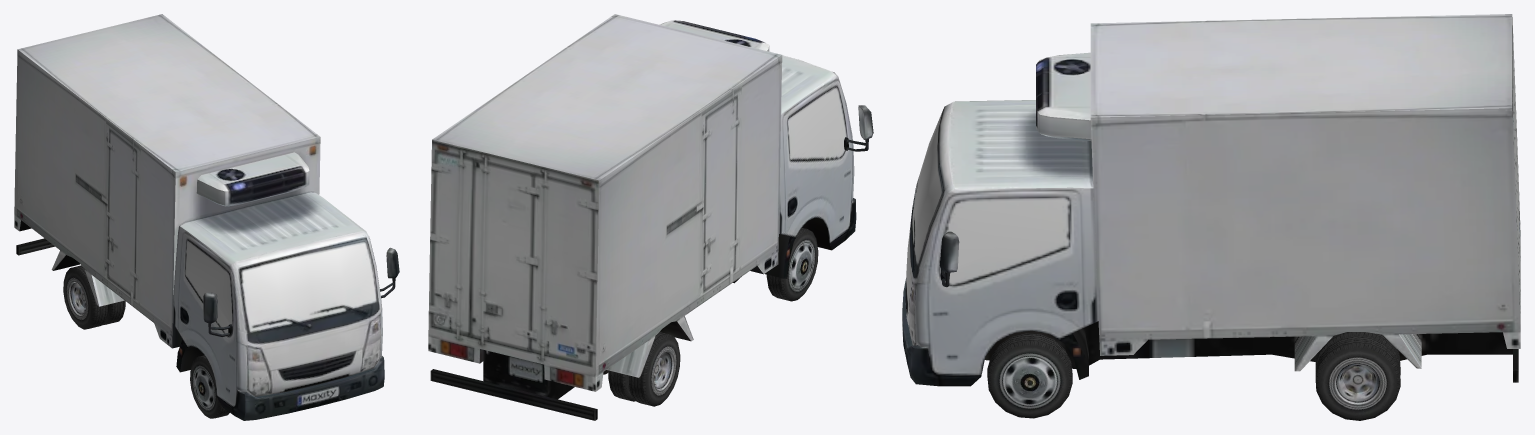
Rendered from box_truck_small.glb.
3 renders of one model, left to right at view 1: azimuth 30°, elevation 25°; view 2: azimuth 150°, elevation 25°; view 3: azimuth 270°, elevation 25°, orthographic. The views are drawn at different scales.
Visible parts, largest first — view 1: Body; view 2: Body; view 3: Body.
Boxes of the visible parts, bbox=[...] form: Body: bbox=[14, 14, 399, 420]; Body: bbox=[428, 14, 873, 420]; Body: bbox=[902, 14, 1520, 420].
Size of the model in its own units: 2.18 by 2.53 by 4.5.
2 materials, 2 textured.
